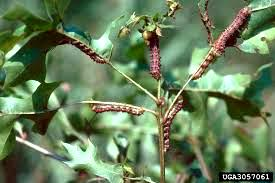Caterpillar: (186, 3, 256, 81), (55, 32, 111, 67), (161, 91, 189, 154), (143, 27, 170, 82), (89, 103, 147, 117)
